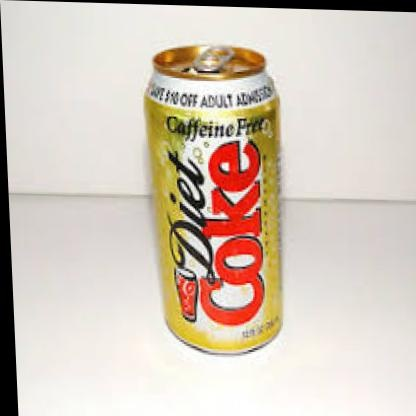trash: (144, 46, 281, 352)
